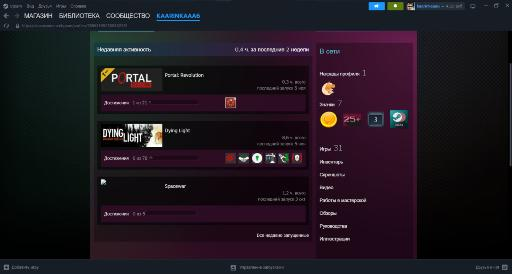steam: (0, 1, 512, 274)
